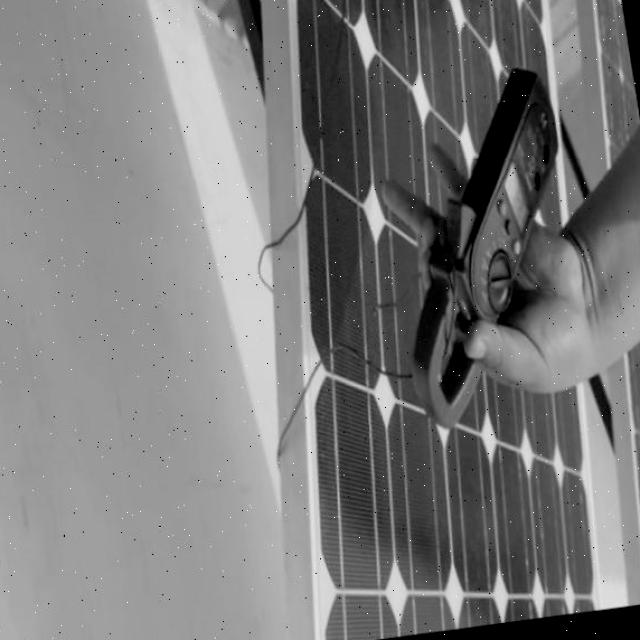Normal Solar Panel: (210, 0, 618, 432), (250, 322, 618, 640)
